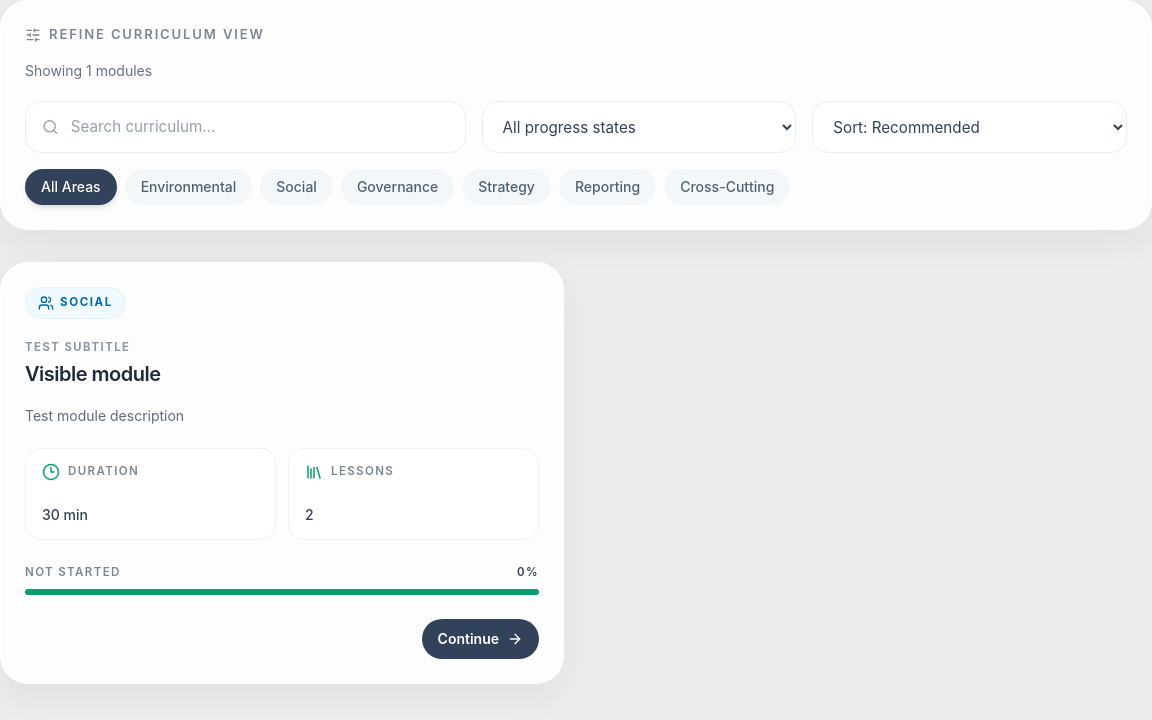
curriculum list and course detail UI › shows the zero-results state after searching
In the field with placeholder "Search curriculum...": [260, 127] box [71,116,448,138], type "does-not-exist"
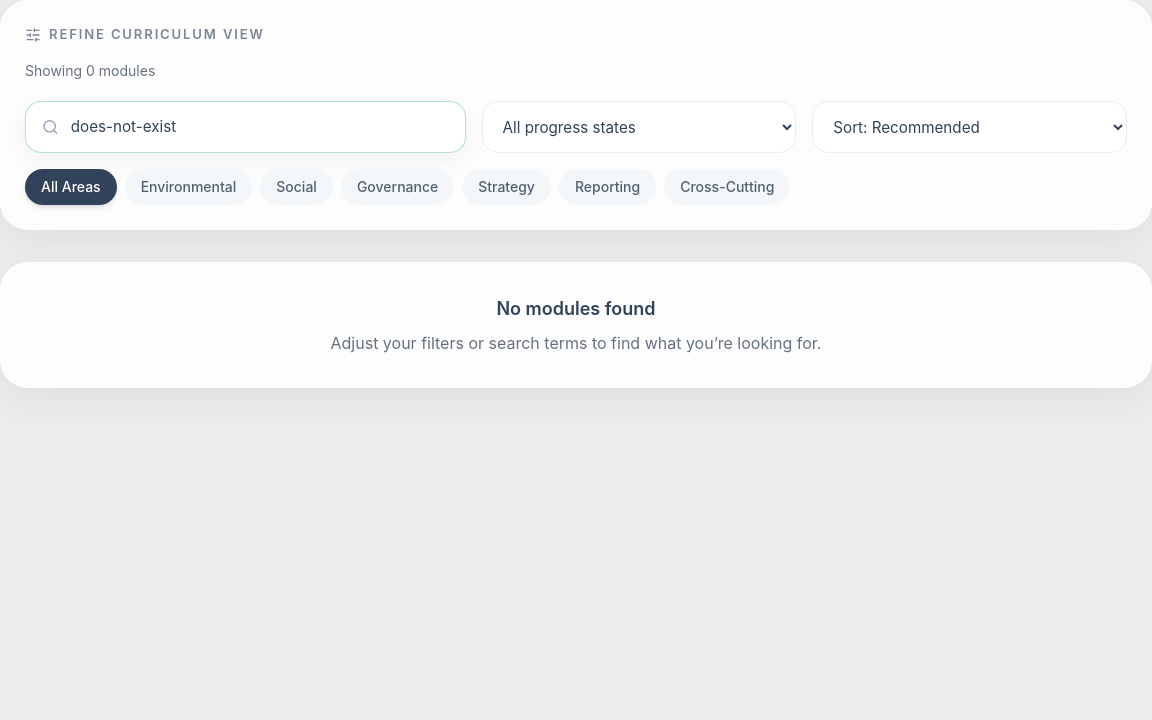
Check: the heading "No modules found" is shown, box [496,298,656,320]
Check: the heading "Visible module" is gone
